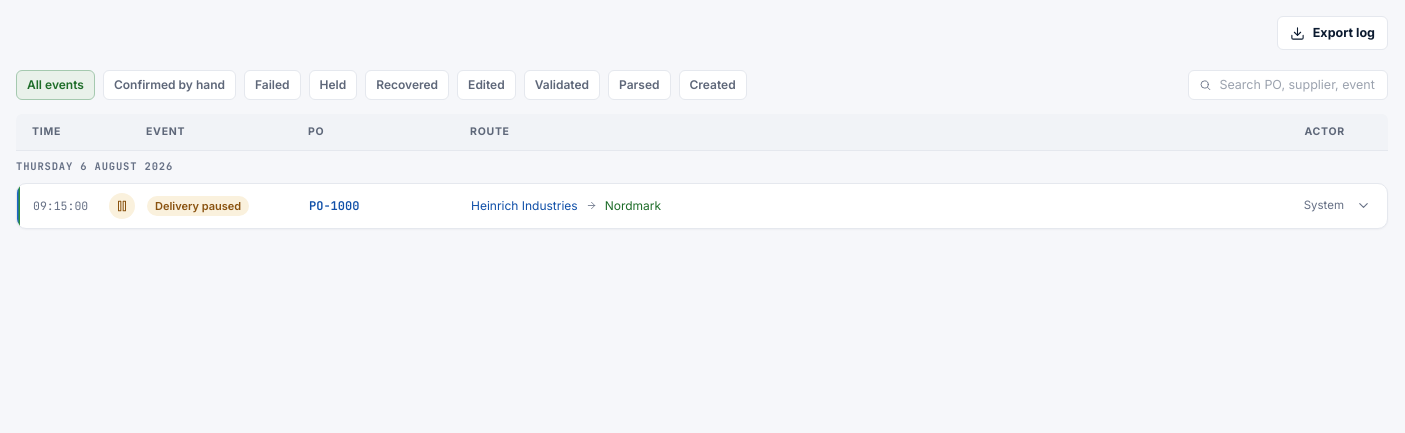
Scenario: expanded failure row — the four shapes are distinguishable › DeliveryHeldForBilling states how far the order got and what to do now
Click the button "PO-1000".
click(61, 205)  # box x1=17 y1=184 x2=1387 y2=228
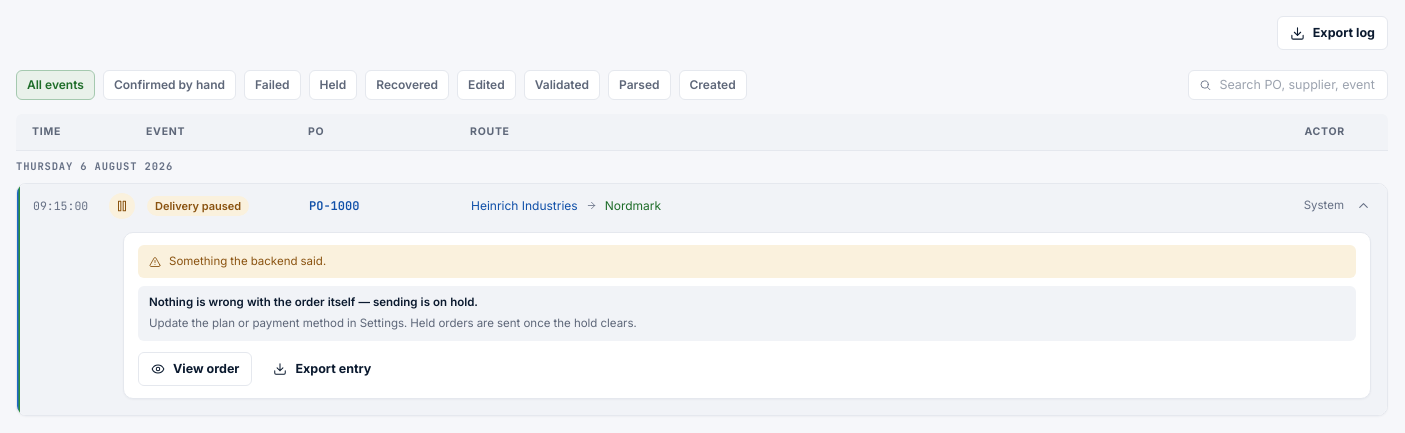
Expected: the element with test id "audit-remedy" is shown, x1=138 y1=286 x2=1356 y2=341
Expected: the element with test id "audit-remedy" shows "Nothing is wrong with the order itself — sending is on hold.", x1=149 y1=295 x2=478 y2=309
Expected: the element with test id "audit-remedy" shows "Update the plan or payment method in Settings. Held orders are sent once the hold clears.", x1=149 y1=316 x2=637 y2=330
